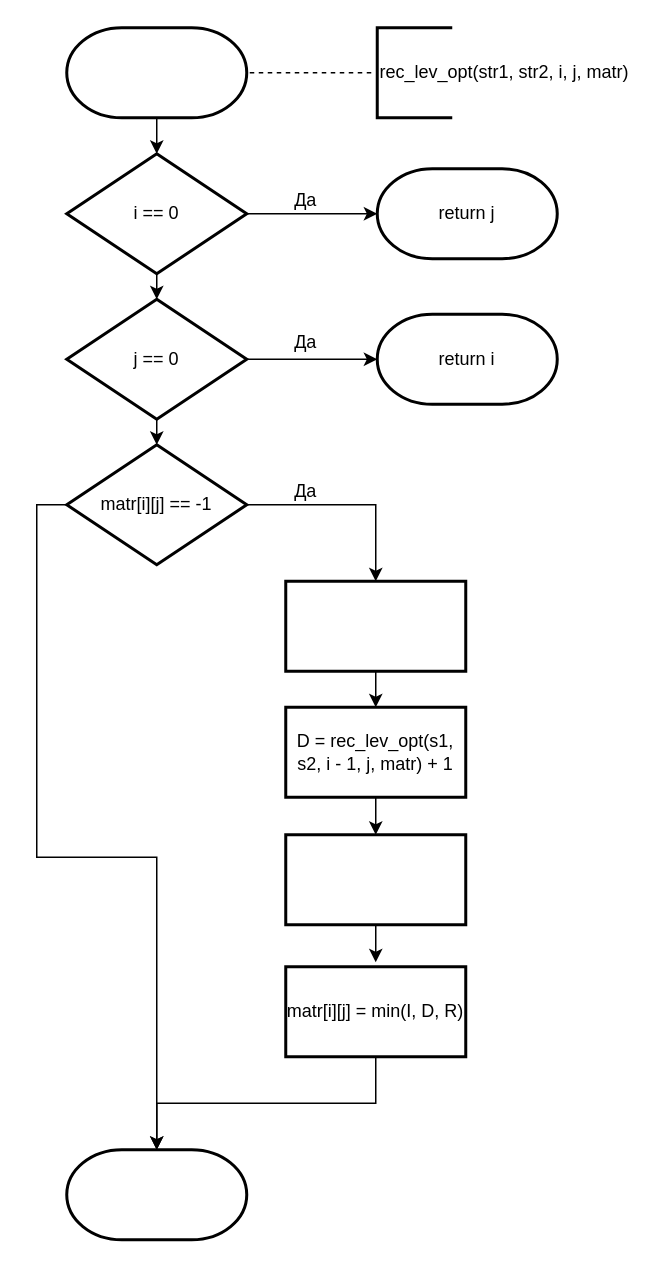
The diagram is 656 pixels wide and 1266 high, and some of its shapes have lost their labels. Here are the shapes that lost their labels. From the top down, the centre of each, then its label:
At [156,72]: "string: s1, s2 matrix: matr int: i, j".
At [375,625]: "I = rec_lev_opt(s1, s2, i, j - 1, matr) + 1".
At [375,879]: "R = rec_lev_opt(s1, s2, i - 1, j - 1, matr) + (s1[j - 1] != s2[i - 1]) ? 1 : 0".
At [156,1194]: "return matr[i][j]".
